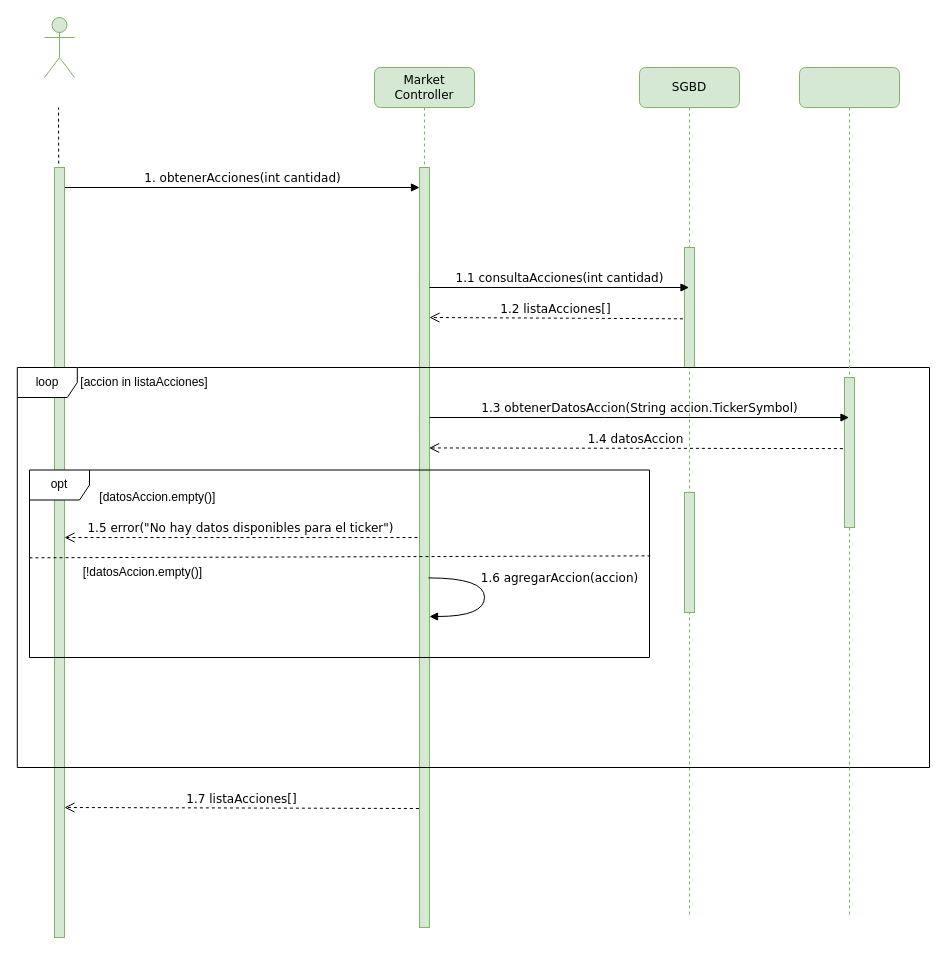
The diagram is 948 pixels wide and 955 high, and some of its shapes have lost their labels. Here are the shapes that lost their labels. From the top down, the centre of each, then its label:
At point 59,47: "Usuario".
At point 849,492: "YahooAPI".
